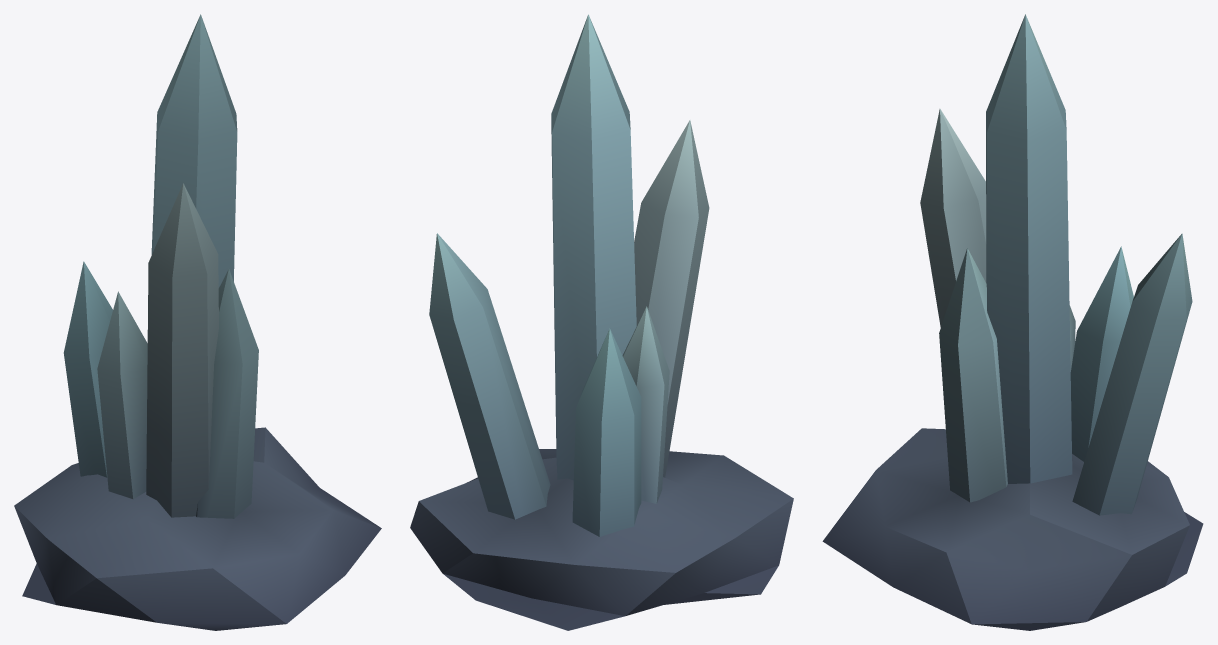
The model's file is lumen_spire_c.glb.
3 views of the same model, side by side, from view 1: azimuth 30°, elevation 25°; view 2: azimuth 150°, elevation 25°; view 3: azimuth 270°, elevation 25° (orthographic).
Parts seen in each view (by area): view 1: lumen_spire_c; view 2: lumen_spire_c; view 3: lumen_spire_c.
Boxes of the visible parts, box(x1,y1,x2,y2) form: lumen_spire_c: box(14, 14, 381, 630); lumen_spire_c: box(410, 14, 793, 630); lumen_spire_c: box(822, 14, 1203, 630).
Size of the model in its own units: 2.08 by 3.3 by 2.07.
